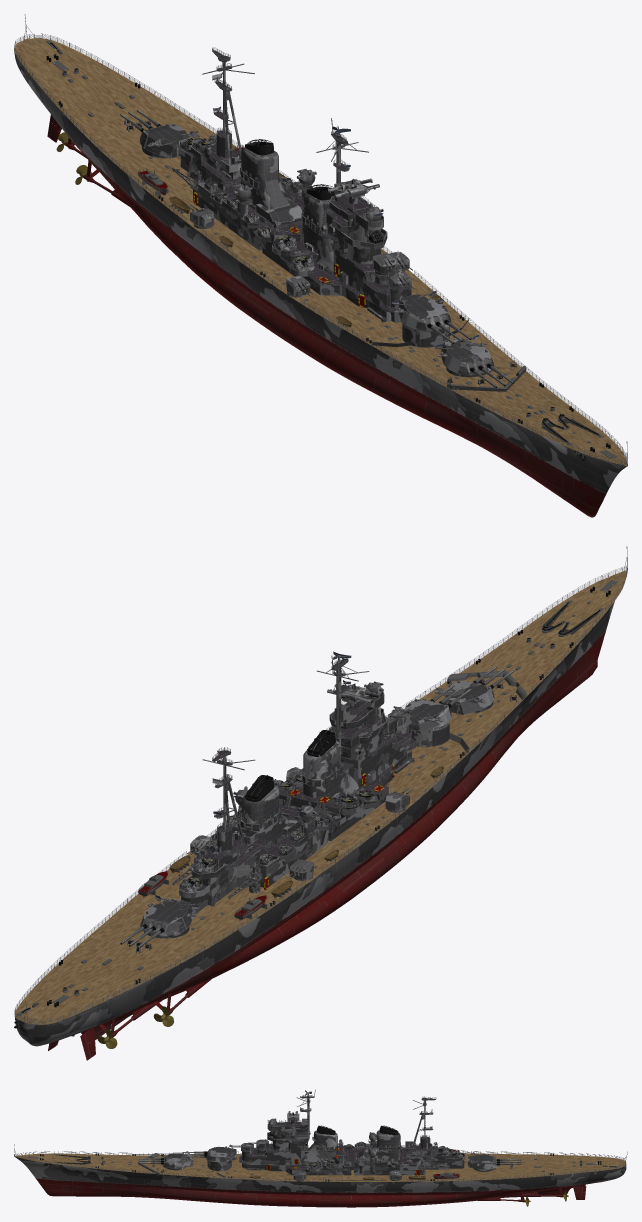
The model's file is project_82_stalingrad_battlecruiser_model-maximum-compressed.glb.
The picture shows the model from 3 angles, top to bottom: view 1: azimuth 30°, elevation 25°; view 2: azimuth 150°, elevation 25°; view 3: azimuth 270°, elevation 25°; orthographic projection. The views are drawn at different scales.
Visible parts, largest first — view 1: Hull_new.012, Superstructure, Cylinder.182, Cube.360, Cube.369, Cube.349, Cube.370, Hull.009, boat_2.006; view 2: Hull_new.012, Superstructure, Cylinder.182, Cube.360, Cube.370, boat_2.006, Cube.349, Cube.369, Hull.009; view 3: Hull_new.012, Superstructure, Cylinder.182, Cube.360, Cube.370, Cube.369, Cube.349, Hull.009, boat_2.006.
Part boxes in pixels (left/top/right/bottom): Hull_new.012: left=14, top=38, right=627, bottom=517; Superstructure: left=178, top=50, right=411, bottom=322; Cylinder.182: left=14, top=14, right=627, bottom=465; Cube.360: left=46, top=40, right=617, bottom=458; Cube.369: left=391, top=291, right=451, bottom=331; Cube.349: left=434, top=334, right=494, bottom=375; Cube.370: left=140, top=123, right=199, bottom=158; Hull.009: left=141, top=146, right=491, bottom=377; boat_2.006: left=137, top=145, right=286, bottom=247; Hull_new.012: left=14, top=570, right=627, bottom=1046; Superstructure: left=179, top=655, right=418, bottom=914; Cylinder.182: left=14, top=546, right=627, bottom=1024; Cube.360: left=17, top=579, right=617, bottom=1015; Cube.370: left=140, top=895, right=200, bottom=936; boat_2.006: left=138, top=849, right=339, bottom=920; Cube.349: left=434, top=680, right=494, bottom=715; Cube.369: left=391, top=699, right=451, bottom=733; Hull.009: left=143, top=701, right=493, bottom=938; Hull_new.012: left=14, top=1153, right=626, bottom=1207; Superstructure: left=239, top=1089, right=465, bottom=1175; Cylinder.182: left=14, top=1094, right=627, bottom=1181; Cube.360: left=27, top=1124, right=619, bottom=1181; Cube.370: left=467, top=1151, right=497, bottom=1169; Cube.369: left=206, top=1144, right=236, bottom=1162; Cube.349: left=162, top=1151, right=192, bottom=1168; Hull.009: left=164, top=1160, right=495, bottom=1181; boat_2.006: left=363, top=1147, right=459, bottom=1179.
Bounding box in the file's own units: 32.09 × 52.48 × 274.
Materials: 19 (19 with a texture image).
